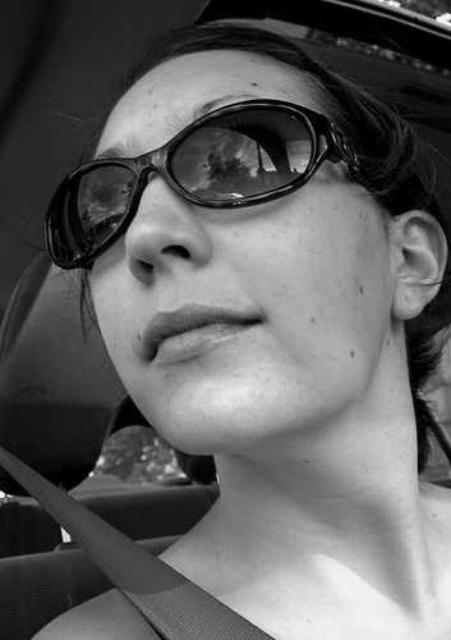Seatbelt: (0, 438, 286, 640)
